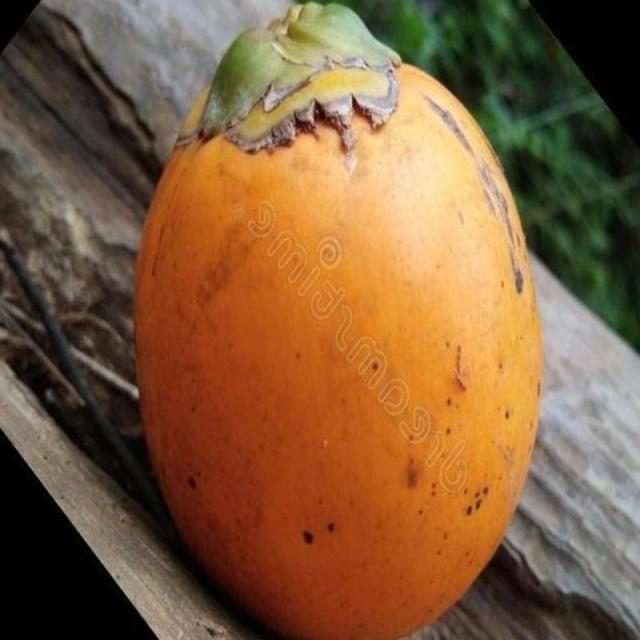good: (134, 3, 546, 639)
